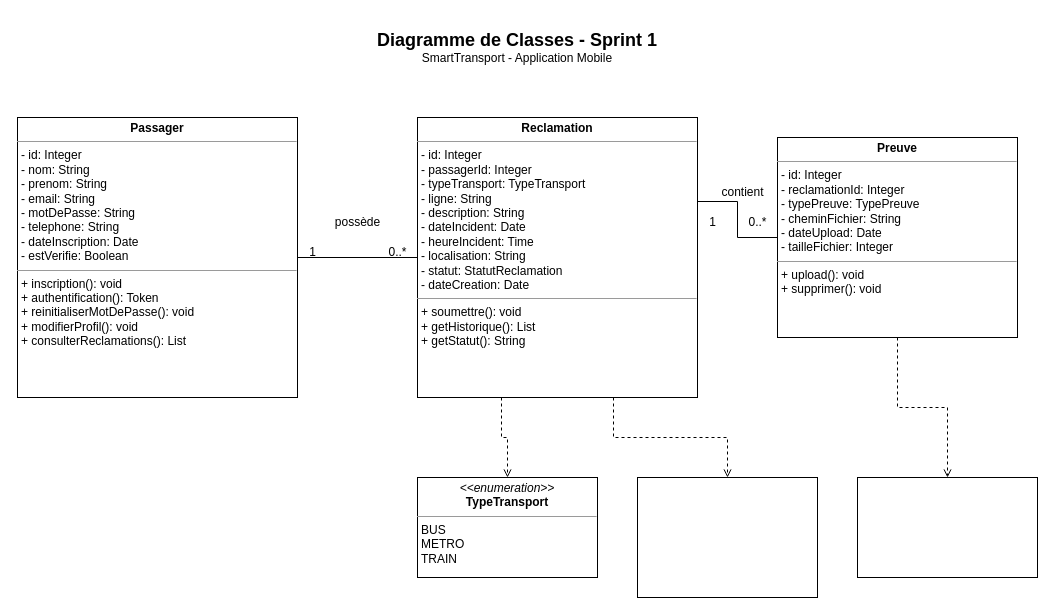
Image size: 1055x615. Some labels were removed from this diagram. The centre of each missing label's shape, as x and y in pixels:
"<<enumeration>> StatutReclamation EN_ATTENTE EN_COURS TRAITEE REJETEE" goes at (x=727, y=537).
"<<enumeration>> TypePreuve PHOTO_TICKET PHOTO_INCIDENT AUTRE" goes at (x=947, y=527).
